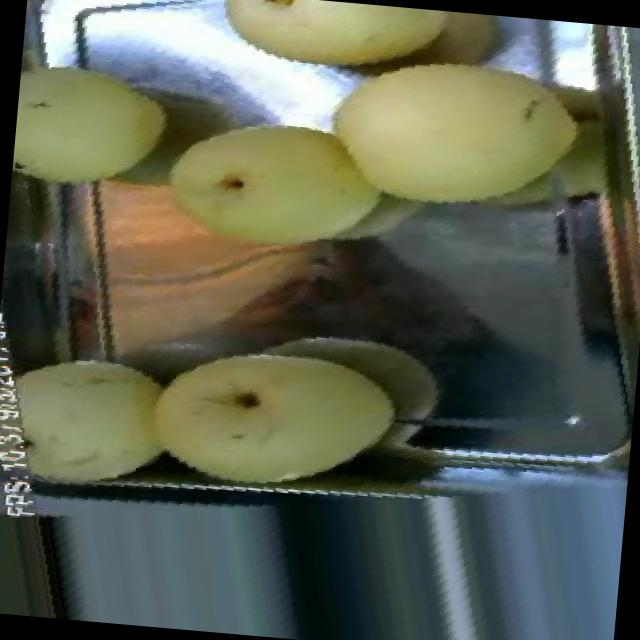Fruit: (10, 61, 437, 420), (296, 4, 606, 255), (110, 299, 424, 516), (0, 318, 206, 509), (9, 35, 197, 222)
